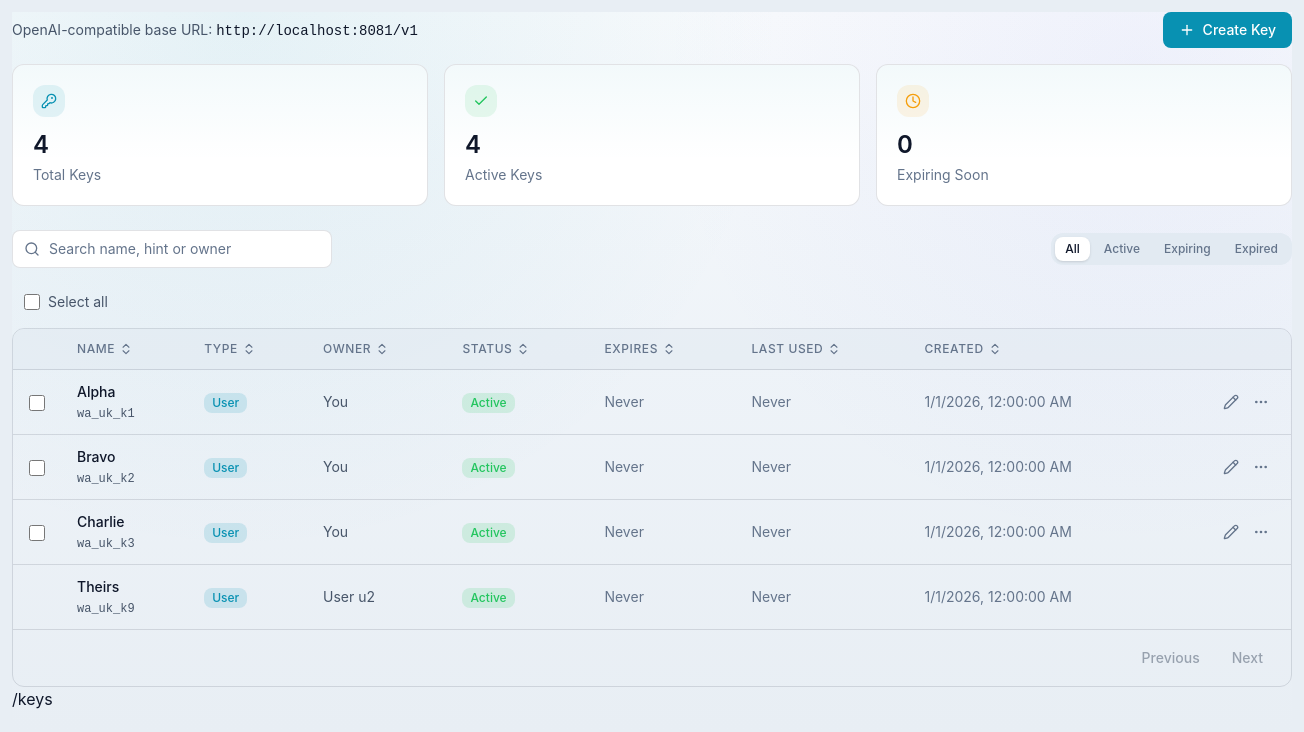
Scenario: KeysPage bulk revoke › clears the selection
The image size is (1304, 732).
Expected: the text "Alpha" is shown, [77,383,116,400]
Click the checkbox named "Select Alpha": click(37, 403) [29,395,45,411]
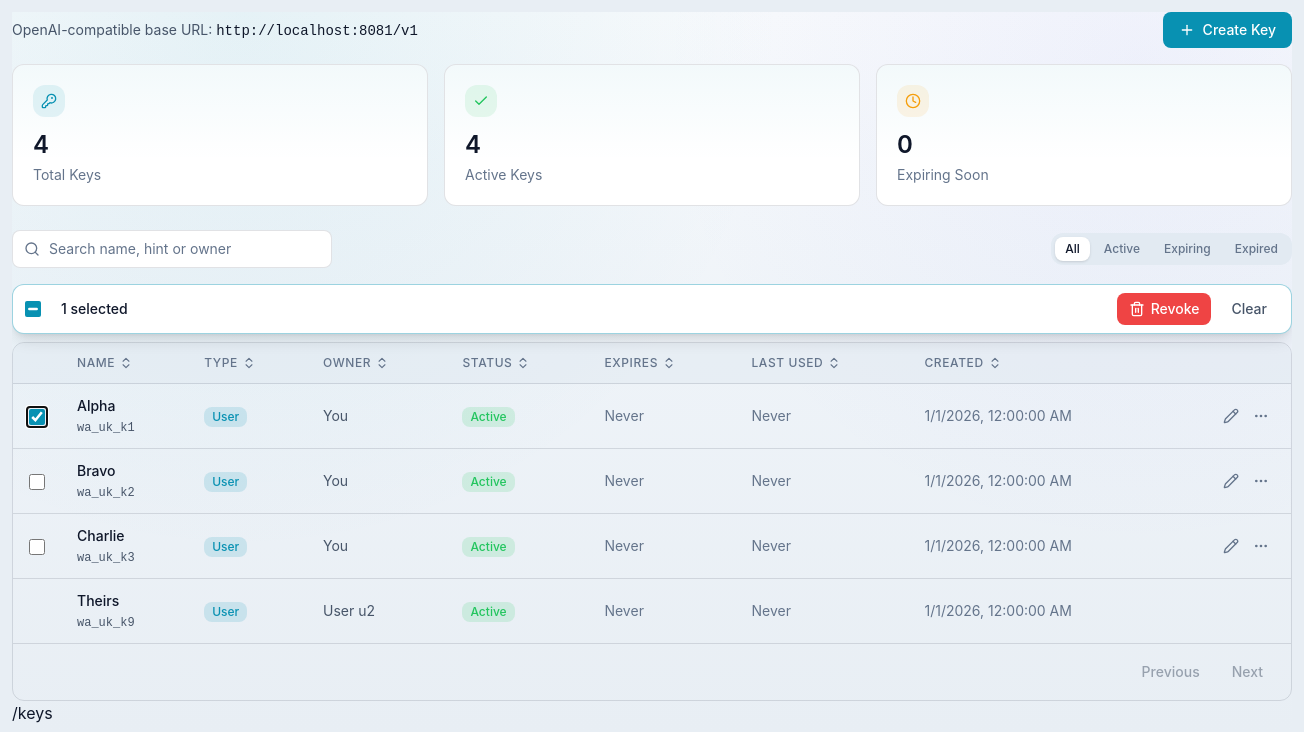
Click the button "Clear": click(1249, 309) [1220,293,1279,325]
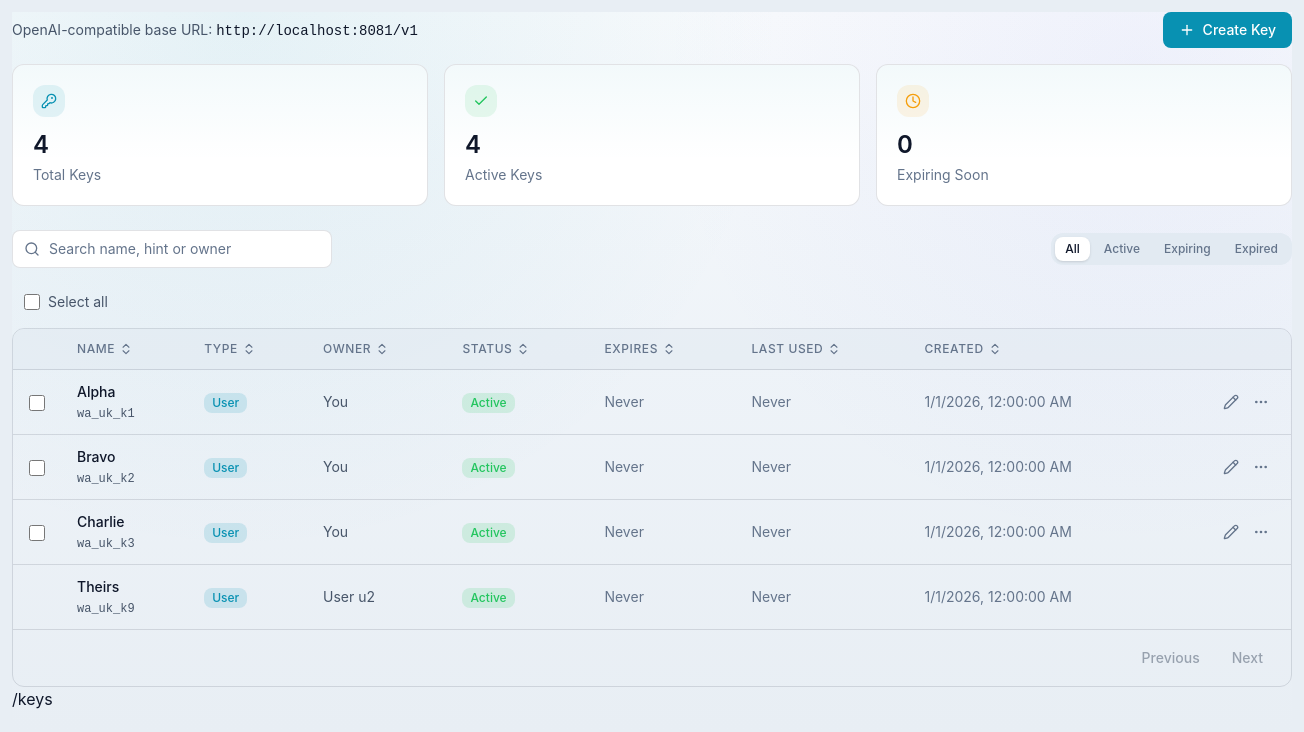
Expected: the checkbox named "Select Alpha" is not checked, [29,395,45,411]
Expected: the element named "Bulk actions" no longer shows "selected", [24,293,108,310]
